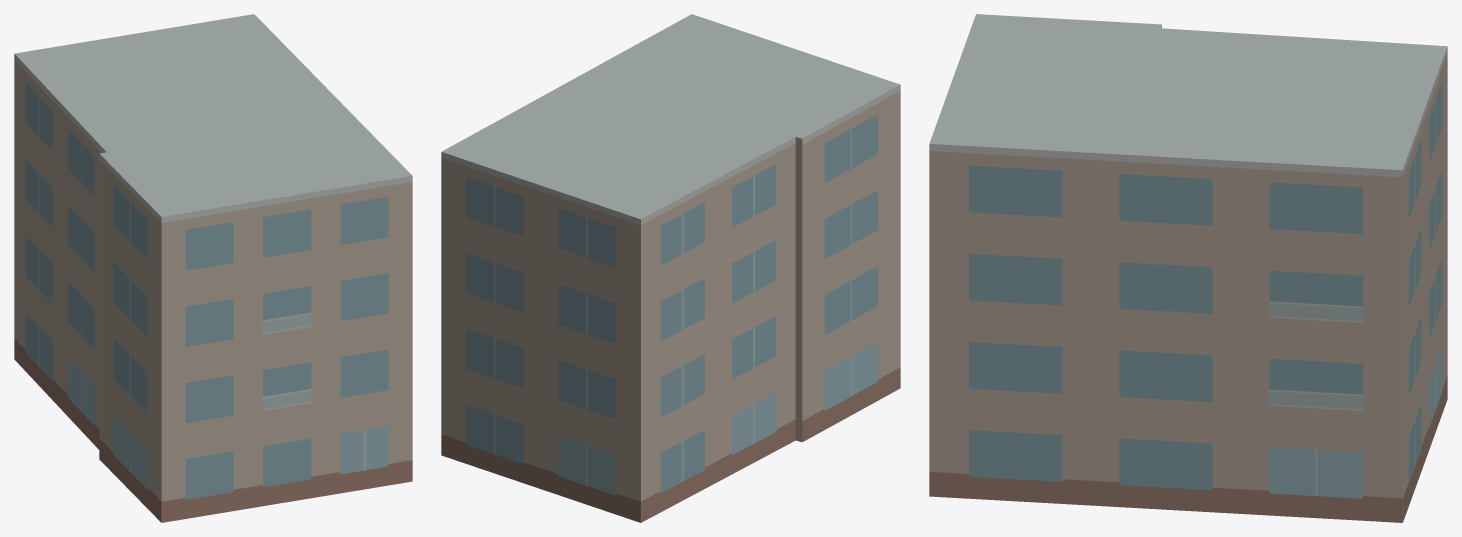
Rendered from survey-upis-32918658.glb.
The picture shows the model from 3 angles, left to right: view 1: azimuth 30°, elevation 25°; view 2: azimuth 150°, elevation 25°; view 3: azimuth 270°, elevation 25°; orthographic projection. The views are drawn at different scales.
Parts seen in each view (by area): view 1: survey-upis-32918658.tmp; view 2: survey-upis-32918658.tmp; view 3: survey-upis-32918658.tmp.
Part boxes in pixels (bbox=[...]): survey-upis-32918658.tmp: bbox=[14, 14, 412, 522]; survey-upis-32918658.tmp: bbox=[441, 14, 900, 522]; survey-upis-32918658.tmp: bbox=[929, 14, 1447, 522].
Bounding box in the file's own units: 11.56 × 12.15 × 16.2.
